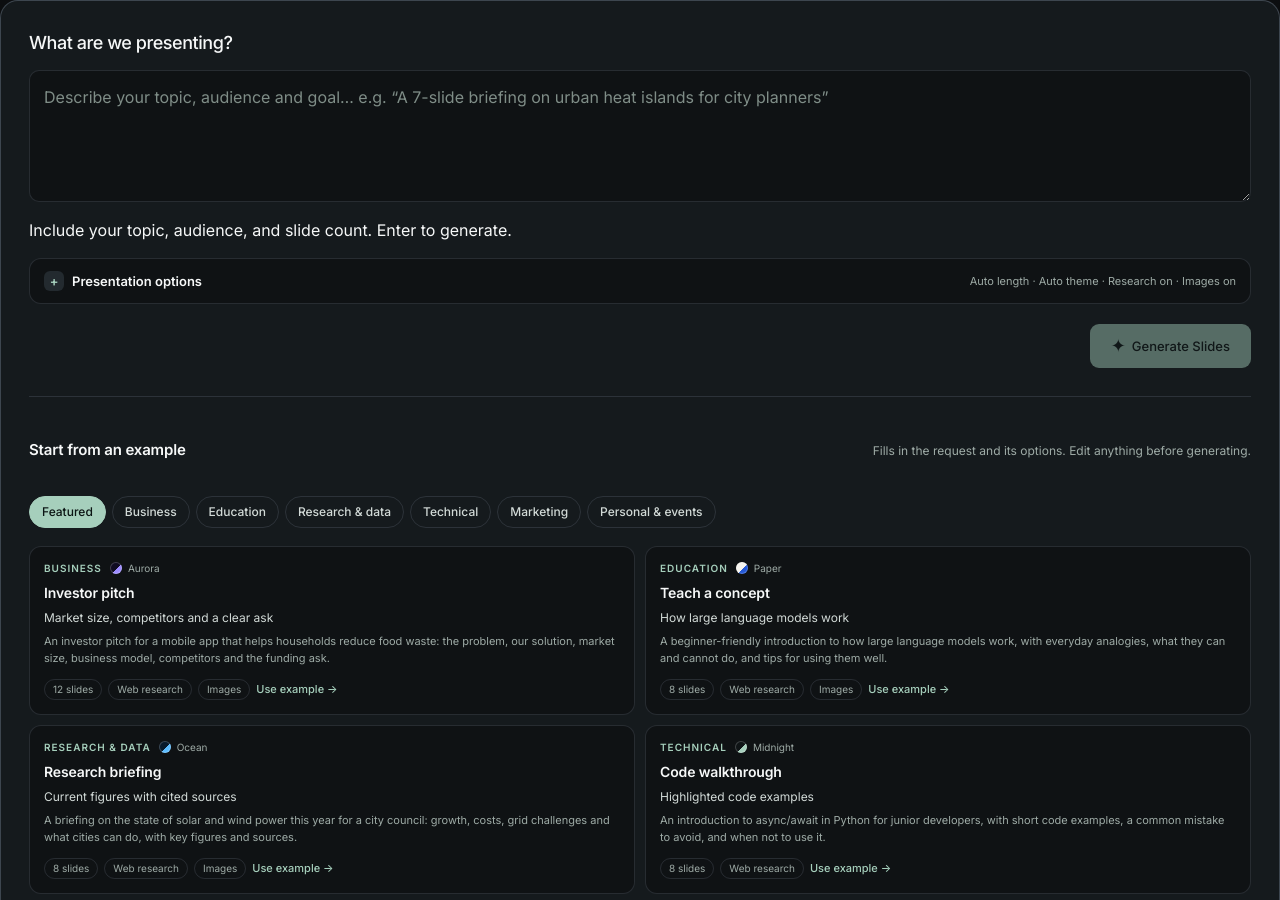
Test case: Chatbot › cancels in-flight generation without reporting a crash
Replace the text in the text box with test id "prompt-input" with "Make a deck": (640, 136) x1=29 y1=70 x2=1251 y2=202
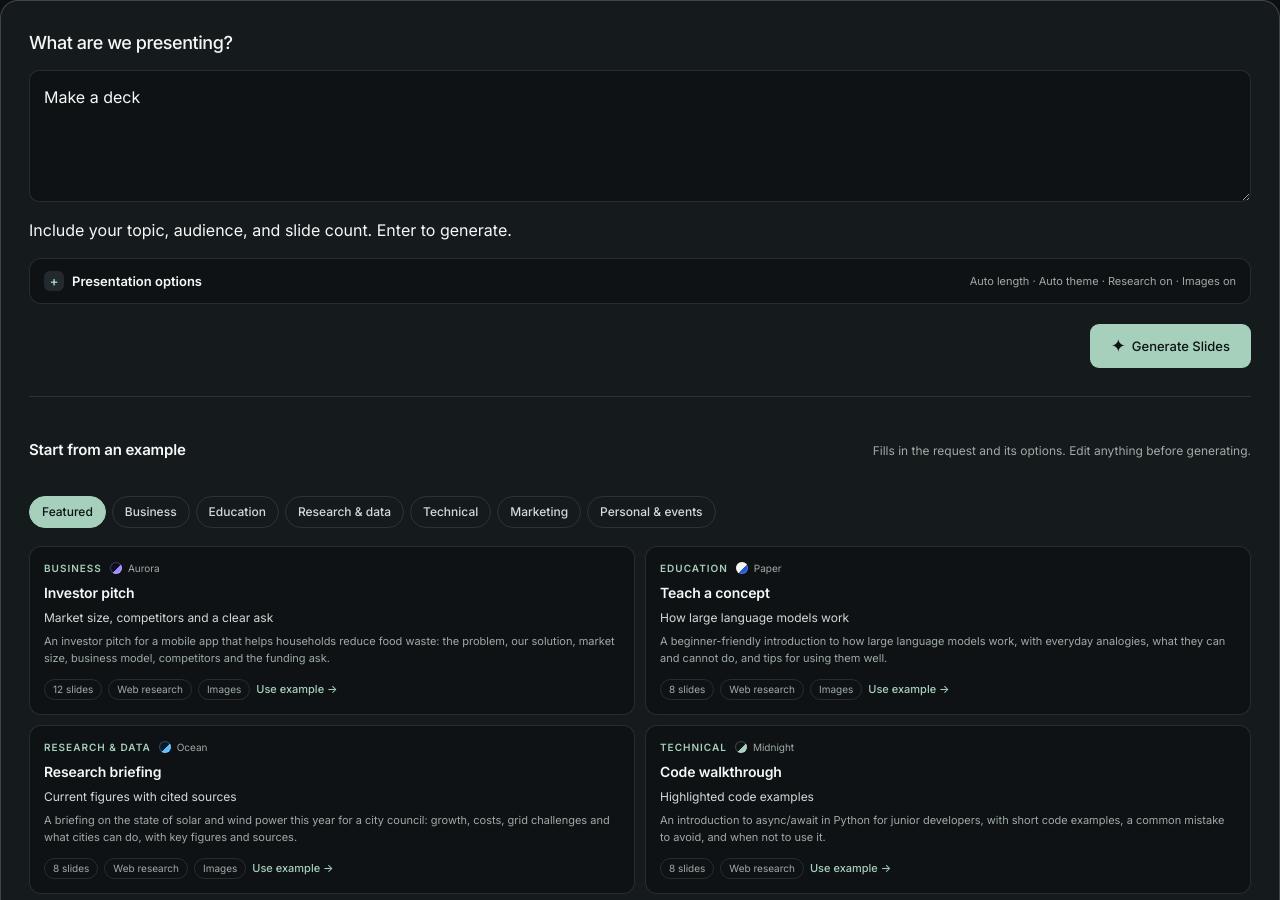
Click the button with test id "generate-button": (1170, 346) x1=1090 y1=324 x2=1251 y2=368
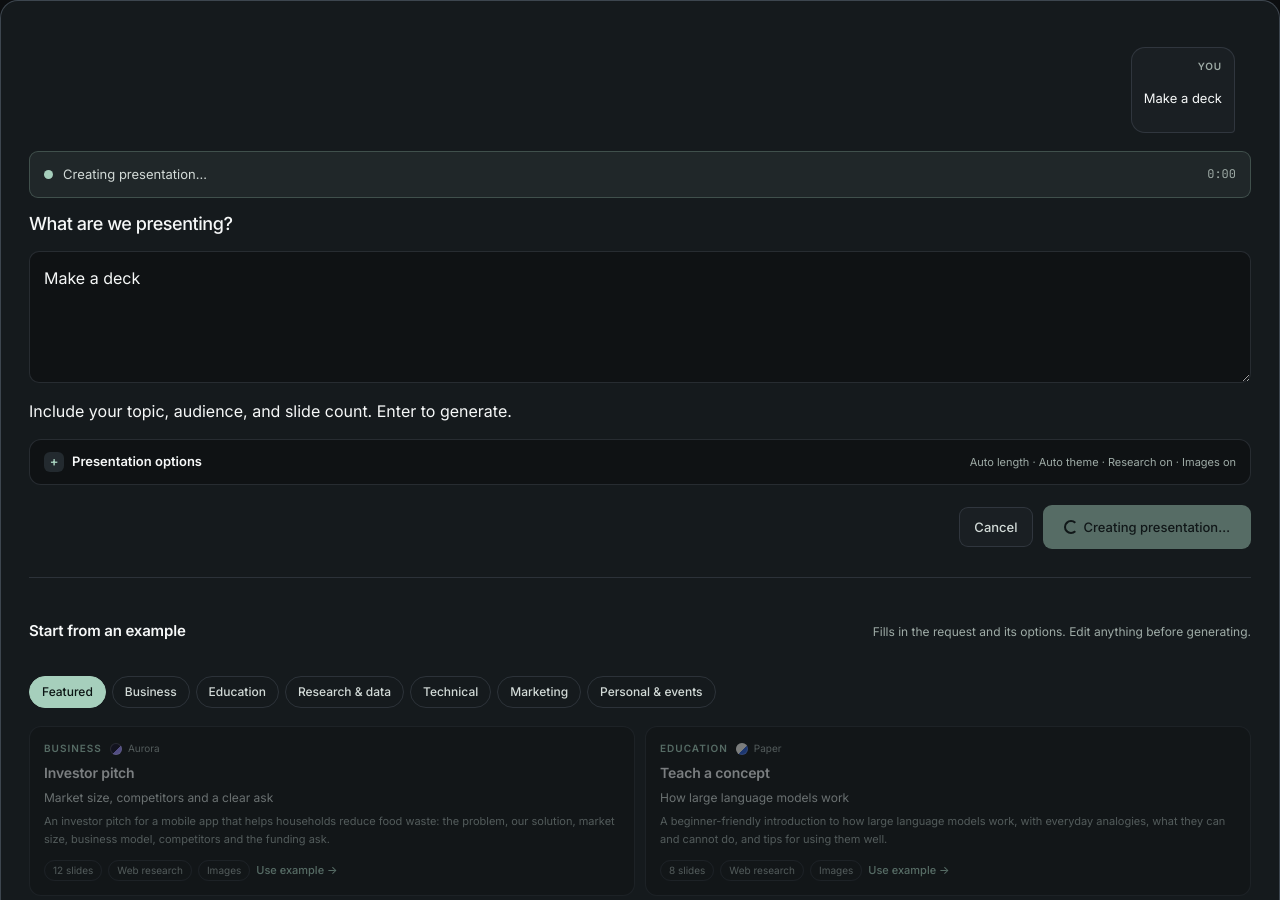
Click the button with test id "cancel-button": (996, 527) x1=959 y1=507 x2=1033 y2=547
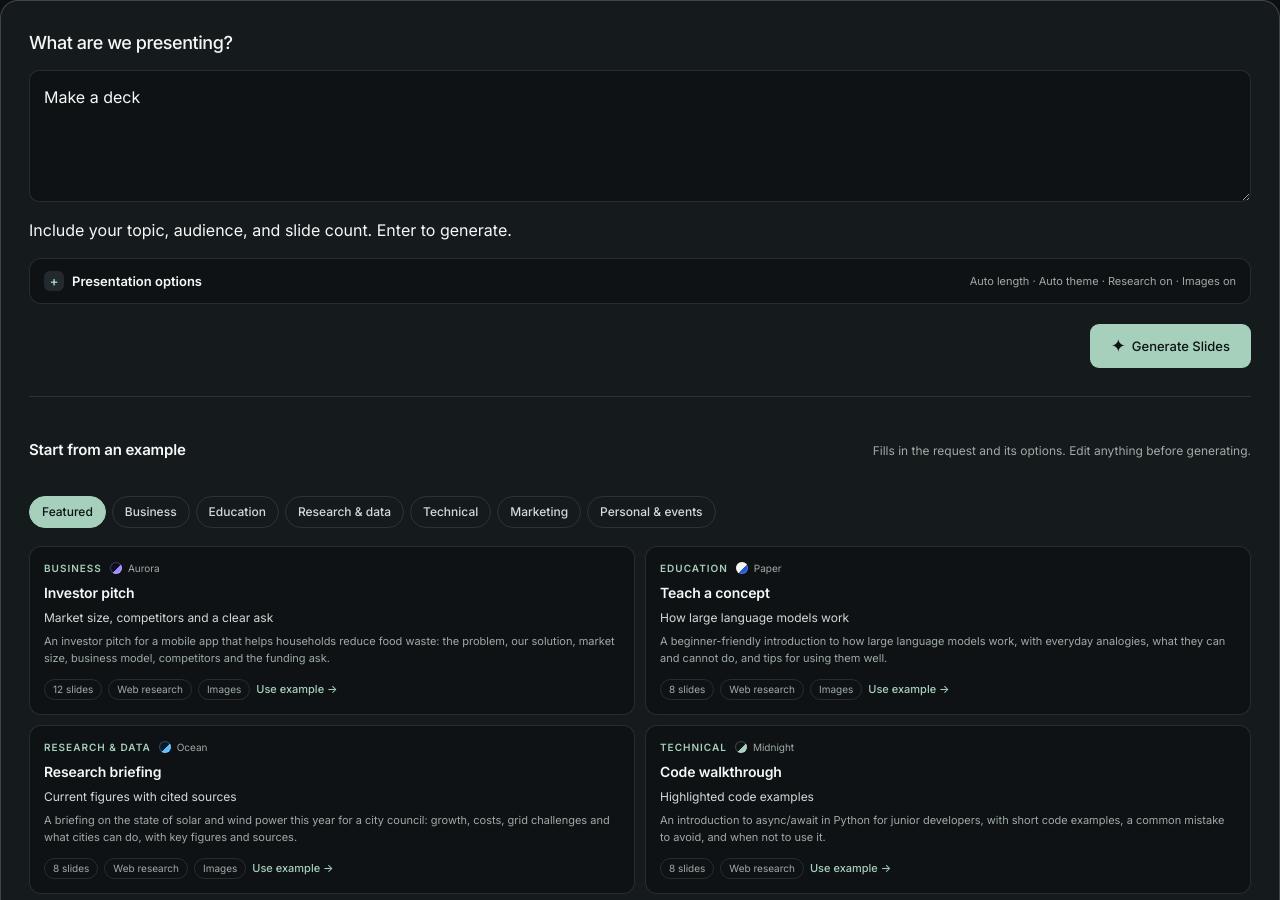
Now the button with test id "cancel-button" is gone
Now the message "Creating presentation…" is gone
